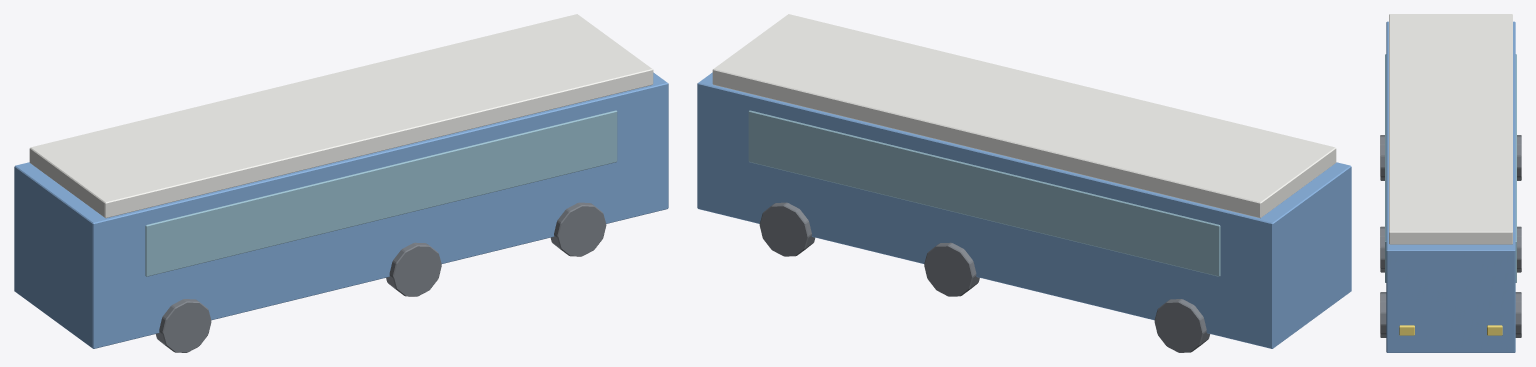
File: 车_公交车_01.fbx
3 renders of one model, left to right at view 1: azimuth 30°, elevation 25°; view 2: azimuth 150°, elevation 25°; view 3: azimuth 270°, elevation 25°, orthographic. The views are drawn at different scales.
Visible parts, largest first — view 1: 车身.005, 车顶.005, 车窗.004, 车轮.007; view 2: 车身.005, 车顶.005, 车窗.004, 车轮.007; view 3: 车顶.005, 车身.005, 车轮.007, 车窗.004, 车灯.005.
Part boxes in pixels (x1,y1,x2,y2): 车身.005: [14, 72, 668, 348]; 车顶.005: [29, 14, 653, 218]; 车窗.004: [145, 110, 617, 276]; 车轮.007: [155, 202, 606, 352]; 车身.005: [697, 72, 1351, 348]; 车顶.005: [712, 14, 1336, 218]; 车窗.004: [748, 110, 1220, 276]; 车轮.007: [759, 202, 1210, 352]; 车顶.005: [1389, 14, 1512, 244]; 车身.005: [1386, 21, 1515, 352]; 车轮.007: [1380, 135, 1521, 337]; 车窗.004: [1385, 54, 1516, 282]; 车灯.005: [1399, 325, 1502, 335].
Size of the model in its own units: 1057 by 288 by 274.
